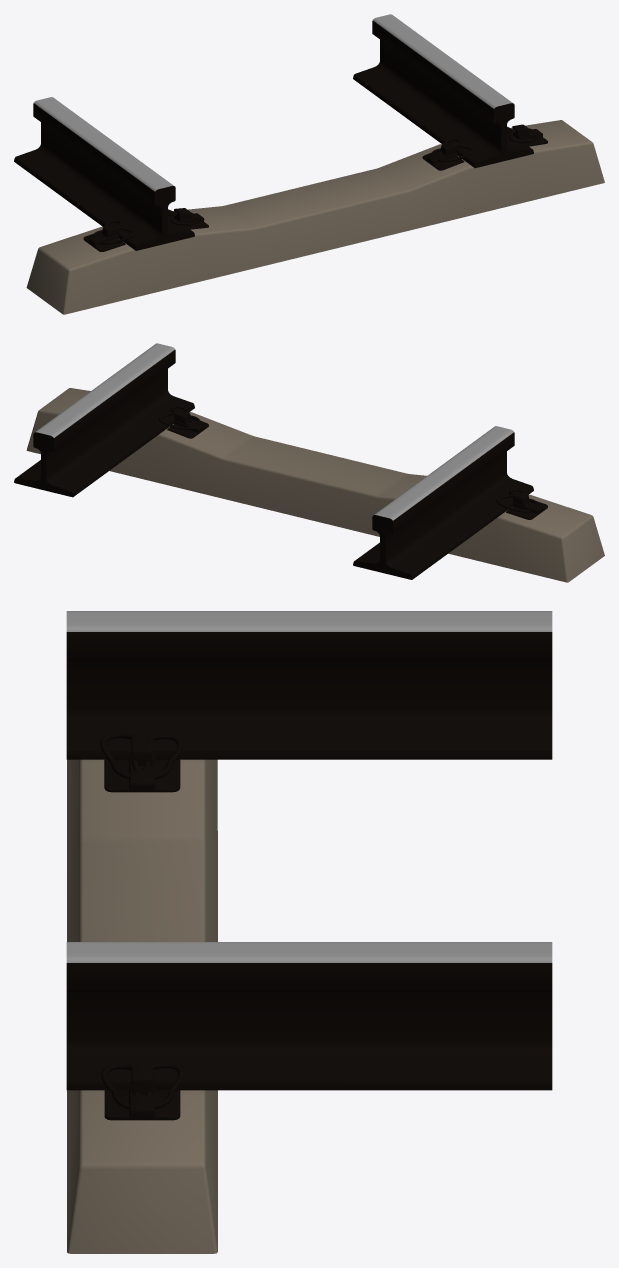
Rendered from TrainTrackTex.obj.
3 views of the same model, one above another, from view 1: azimuth 30°, elevation 25°; view 2: azimuth 150°, elevation 25°; view 3: azimuth 270°, elevation 25° (orthographic). The views are drawn at different scales.
Visible parts, largest first — view 1: Track; view 2: Track; view 3: Track.
Part boxes in pixels (<box>): Track: <box>14,14,604,314</box>; Track: <box>14,343,604,582</box>; Track: <box>66,611,552,1253</box>.
Bounding box in the file's own units: 2.48 × 0.448 × 0.9609.
